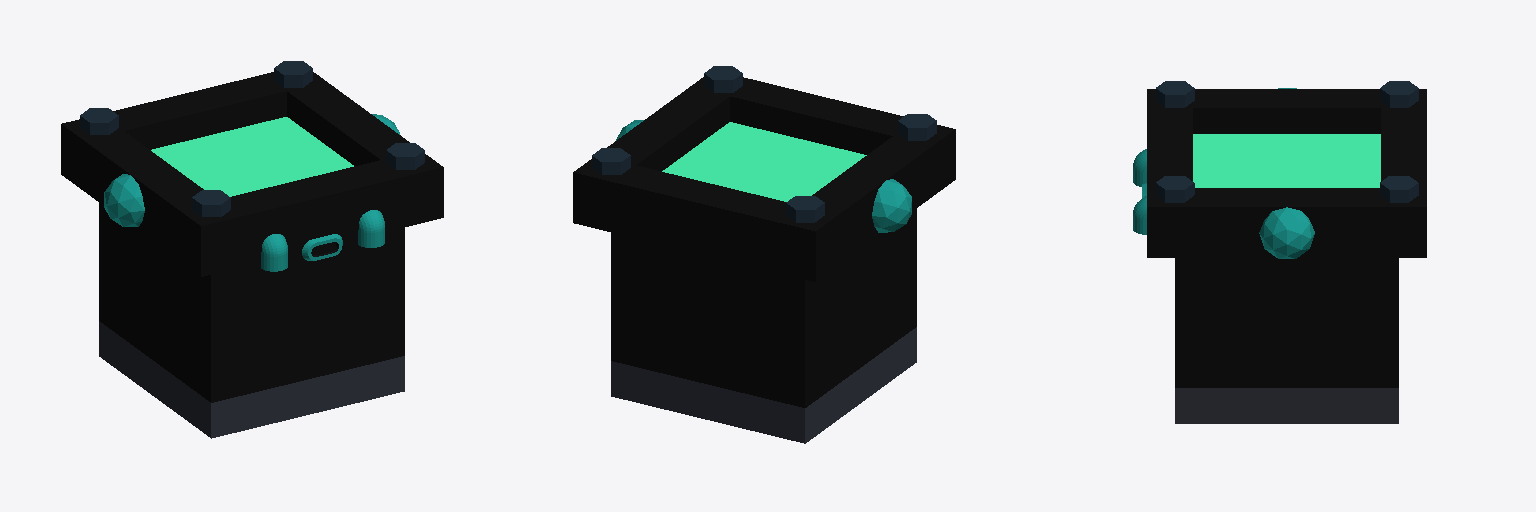
Rendered from Screen.obj.
The picture shows the model from 3 angles: view 1: azimuth 30°, elevation 25°; view 2: azimuth 150°, elevation 25°; view 3: azimuth 270°, elevation 25°; orthographic projection.
Parts seen in each view (by area): view 1: mergedBlocks; view 2: mergedBlocks; view 3: mergedBlocks.
Part boxes in pixels (x1,y1,x2,y2): mergedBlocks: (61,61,443,438); mergedBlocks: (573,66,955,443); mergedBlocks: (1133,81,1426,423).
Size of the model in its own units: 1.2 by 0.95 by 1.05.